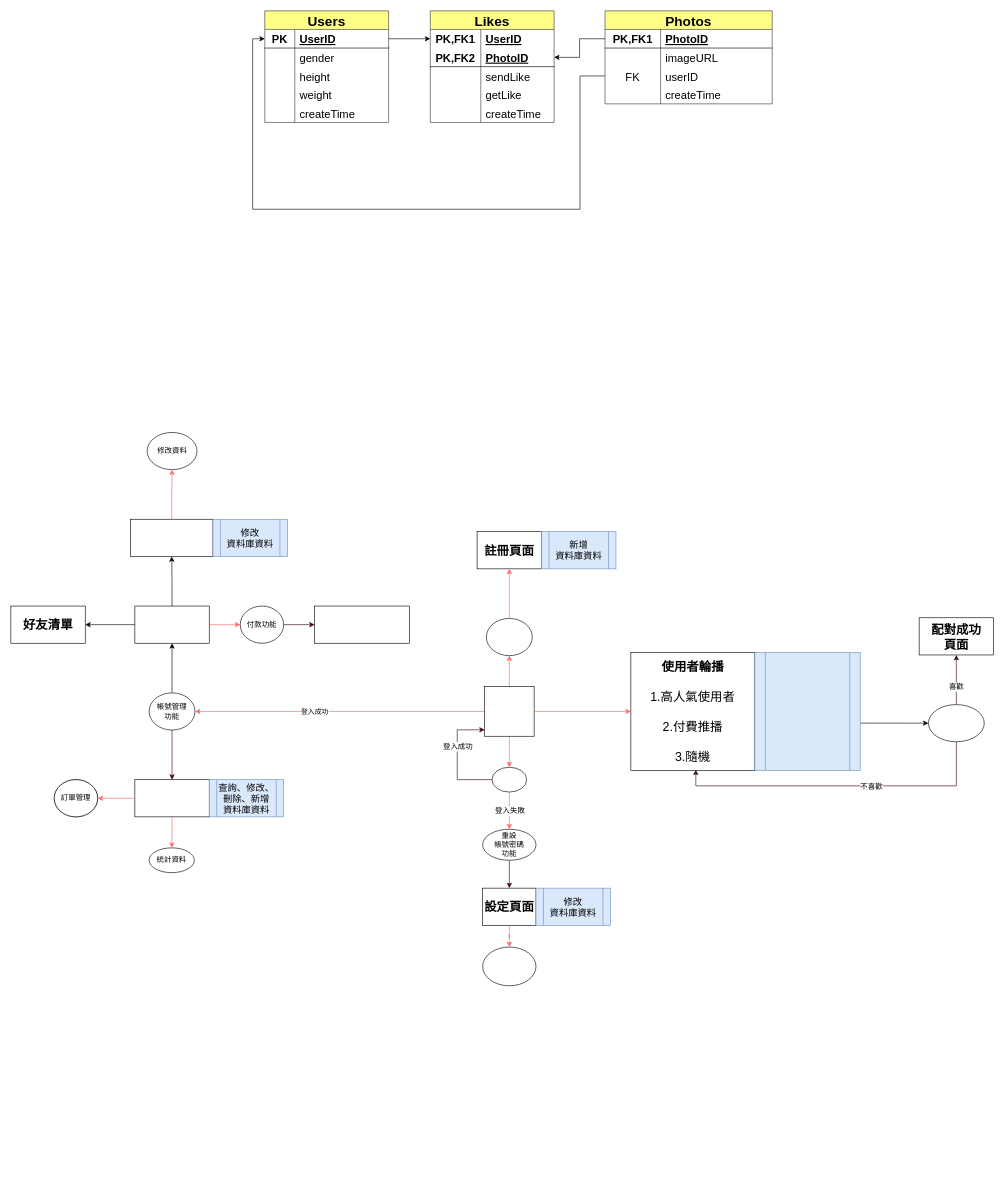
The diagram is 1004 pixels wide and 1186 high, and some of its shapes have lost their labels. Each missing label, with the centre of its shape:
Home Page: point 509,711
付款頁面 首頁推播功能: point 362,624
使用者(前台): point 171,624
個人資料編輯: point 171,537
喜歡/不喜歡: point 956,723
新增會員: point 509,637
查詢 資料庫資料 (非使用者主動查詢): point 807,711
登入: point 509,779
管理者(後台): point 171,798
設定完成 寄送email: point 509,966
